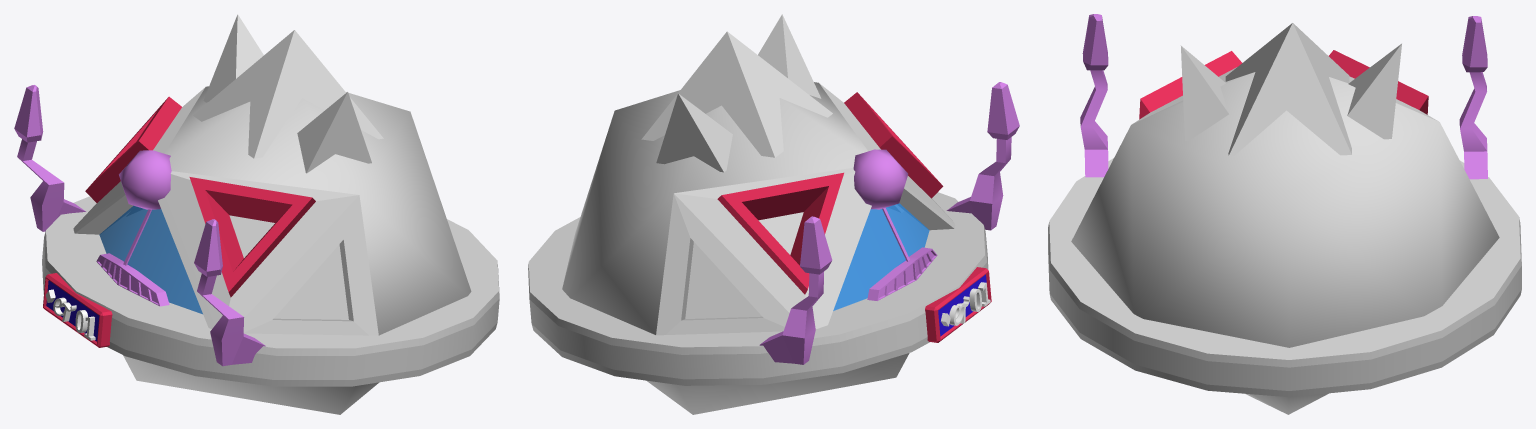
File: zhujiu.FBX
The picture shows the model from 3 angles, left to right: view 1: azimuth 30°, elevation 25°; view 2: azimuth 150°, elevation 25°; view 3: azimuth 270°, elevation 25°; orthographic projection. The views are drawn at different scales.
Visible parts, largest first — view 1: GeoSphere185, Cylinder013, 对象041, Pyramid025, 对象040, Box160, Box161, Pyramid027, GeoSphere184, Pyramid026, Box159, Box162 (+2 smaller); view 2: GeoSphere185, Cylinder013, Pyramid025, 对象041, 对象040, Box161, Box160, Pyramid026, GeoSphere184, Pyramid027, Box159, Box162 (+2 smaller); view 3: GeoSphere185, Cylinder013, Pyramid025, Box160, Box161, Pyramid026, Pyramid027, 对象041.
Part boxes in pixels (<box>): GeoSphere185: <box>73,86,471,414</box>; Cylinder013: <box>42,196,499,386</box>; 对象041: <box>85,96,315,297</box>; Pyramid025: <box>193,30,383,158</box>; 对象040: <box>99,205,202,314</box>; Box160: <box>194,219,265,366</box>; Box161: <box>14,85,85,231</box>; Pyramid027: <box>297,92,371,173</box>; GeoSphere184: <box>119,150,171,209</box>; Pyramid026: <box>203,14,263,102</box>; Box159: <box>96,253,169,306</box>; Box162: <box>43,273,112,347</box>; GeoSphere185: <box>562,82,955,414</box>; Cylinder013: <box>528,192,988,385</box>; Pyramid025: <box>641,31,832,157</box>; 对象041: <box>717,92,943,294</box>; 对象040: <box>833,203,929,310</box>; Box161: <box>759,216,832,364</box>; Box160: <box>946,82,1019,230</box>; Pyramid026: <box>656,93,732,172</box>; GeoSphere184: <box>853,149,908,209</box>; Pyramid027: <box>758,14,821,98</box>; Box159: <box>867,247,937,300</box>; Box162: <box>925,267,991,342</box>; GeoSphere185: <box>1071,67,1499,414</box>; Cylinder013: <box>1048,158,1521,397</box>; Pyramid025: <box>1225,23,1351,156</box>; Box160: <box>1080,14,1108,177</box>; Box161: <box>1459,16,1487,179</box>; Pyramid026: <box>1347,43,1401,139</box>; Pyramid027: <box>1180,45,1228,140</box>; 对象041: <box>1139,50,1428,119</box>.
Bounding box in the file's own units: 789 × 657 × 768.
